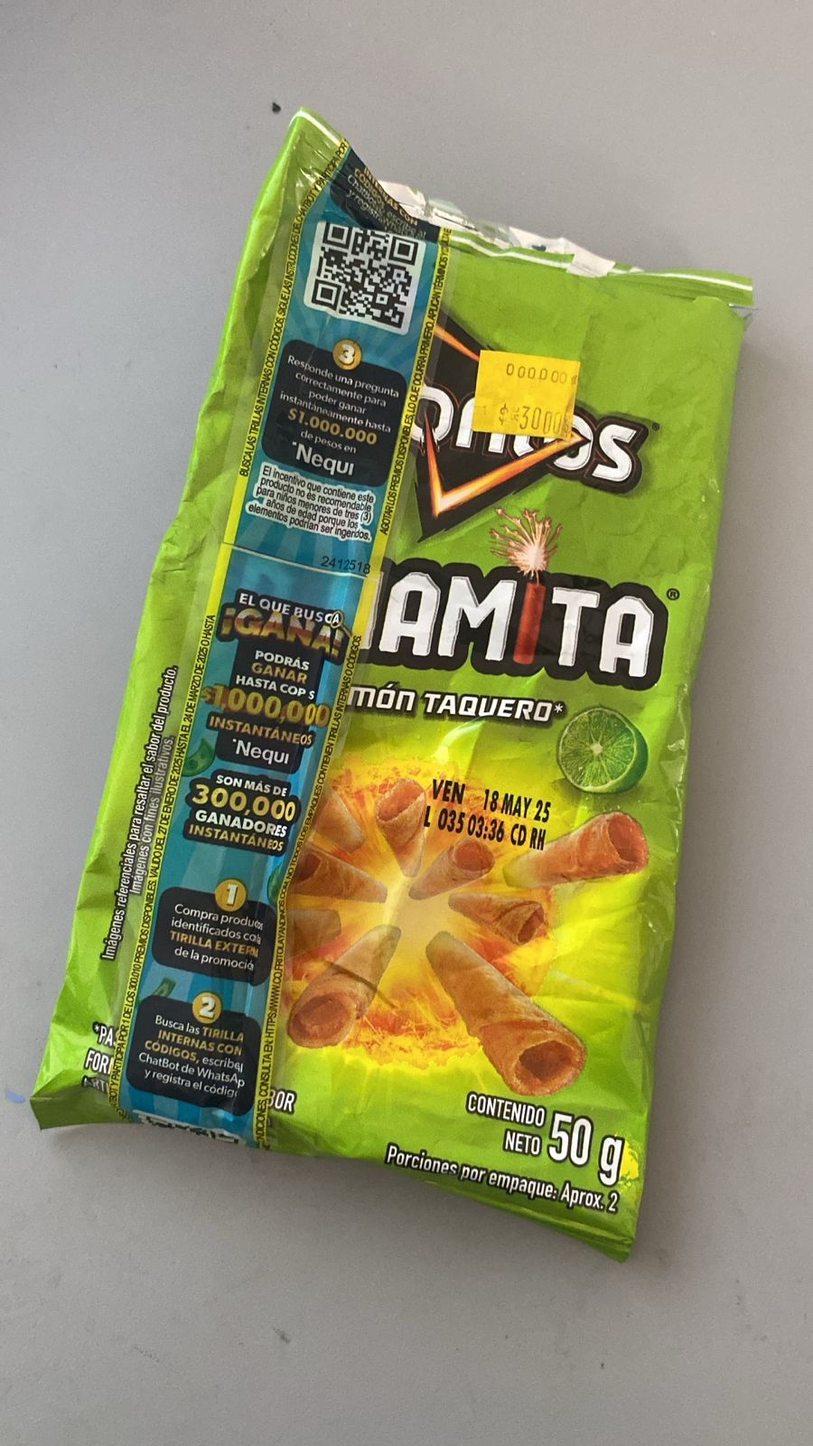Ordinario: (36, 105, 754, 1262)
